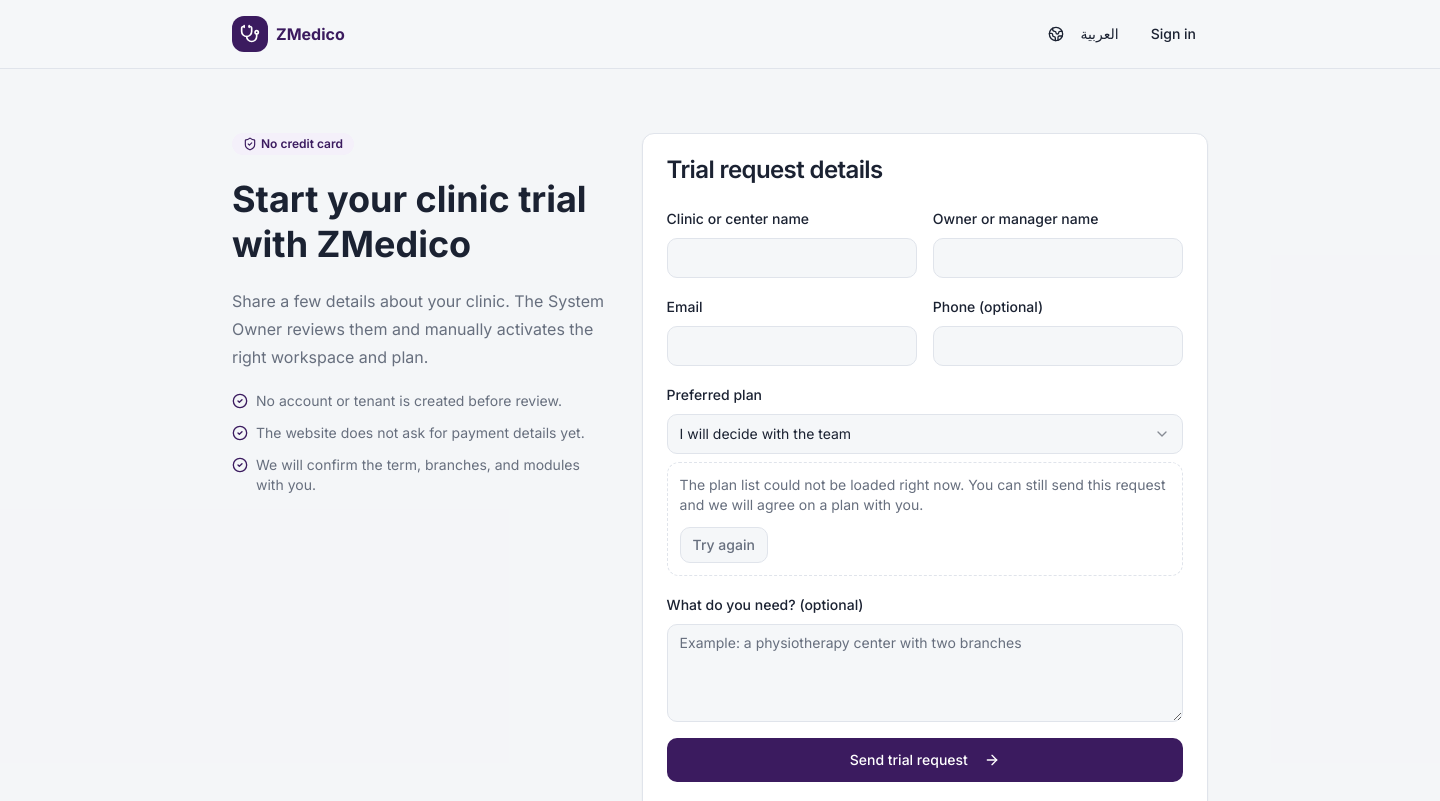
the trial request tells the applicant which field it rejected (P8) › clears the notice when the retry succeeds
Expected: the message is shown, [667,462,1183,576]
Click the button "Try again" at (724, 545), box [680,527,768,563]
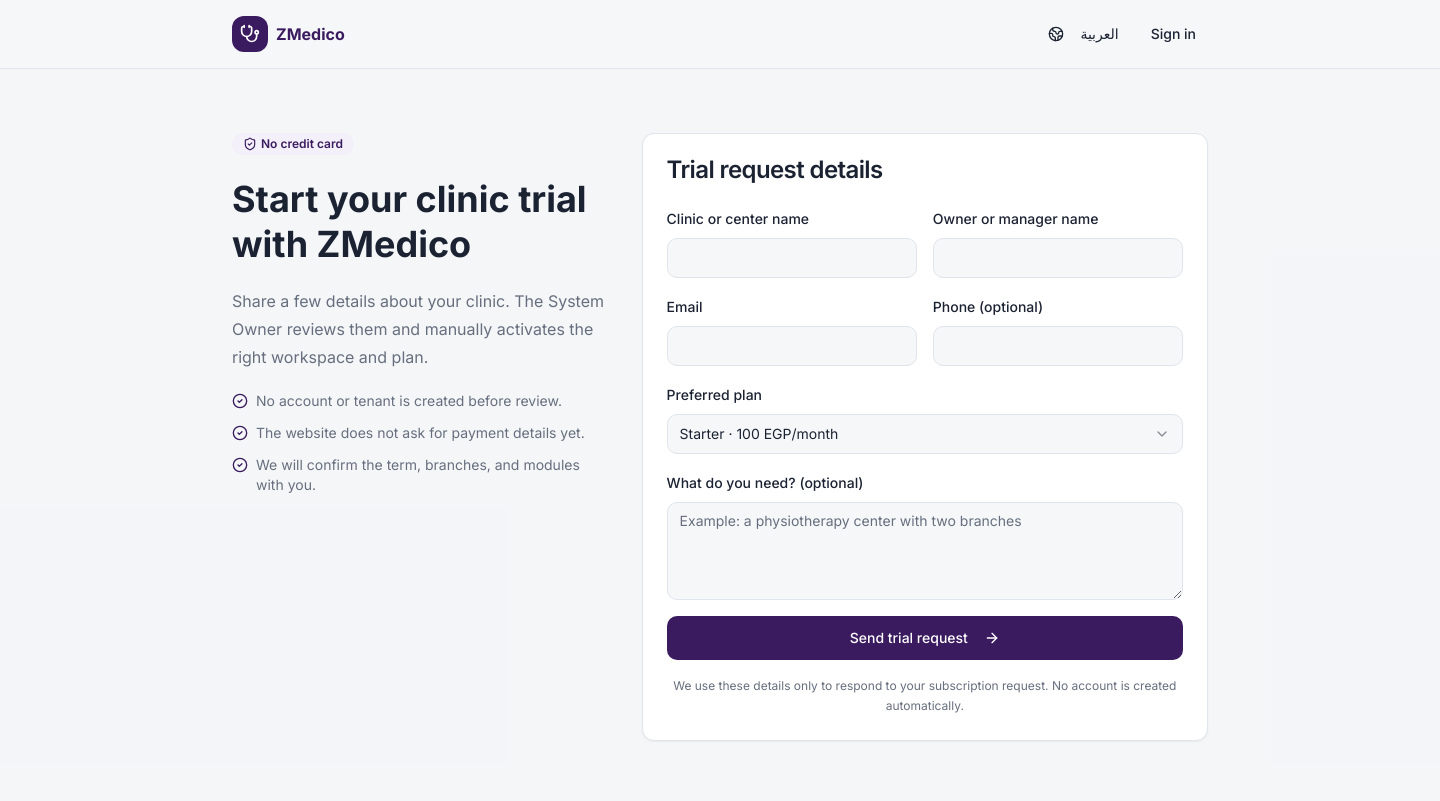
Expected: the message is gone
